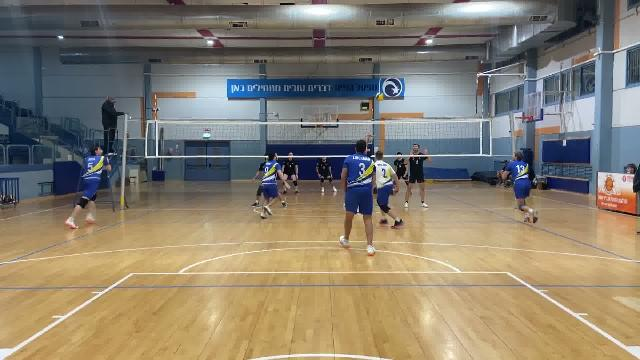ball: (373, 91, 384, 101)
